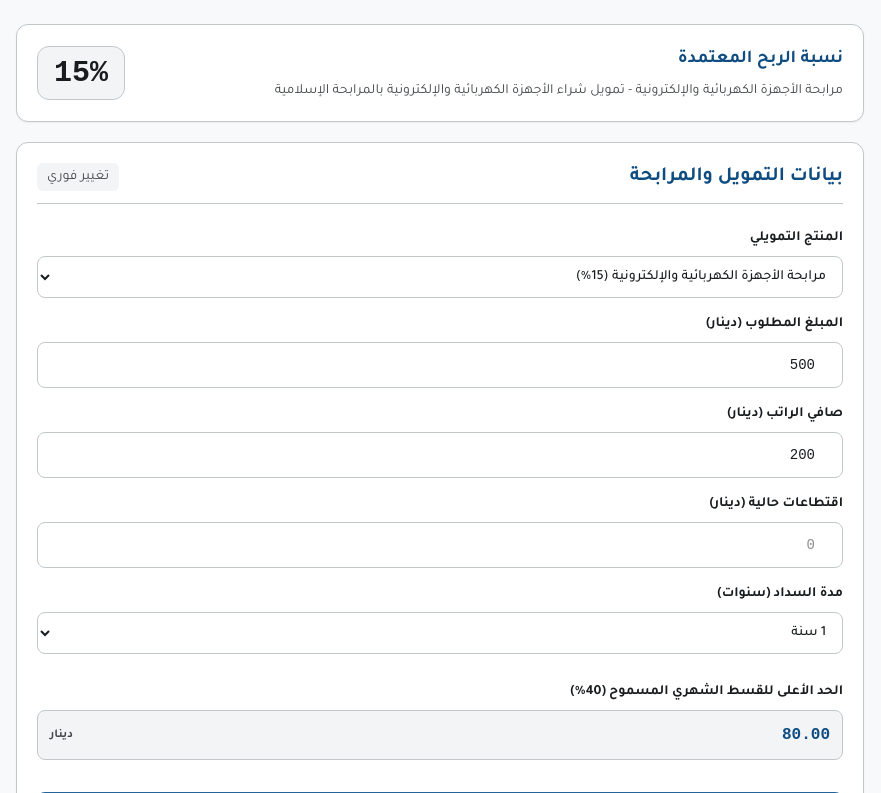
Test case: LoanCalculator › warns when the requested amount exceeds the DTI cap
The image size is (881, 793).
Type "100000" into the number field labelled "المبلغ المطلوب (دينار)". click: (440, 365)
box: 37,342 -> 843,388
(page scrolled)
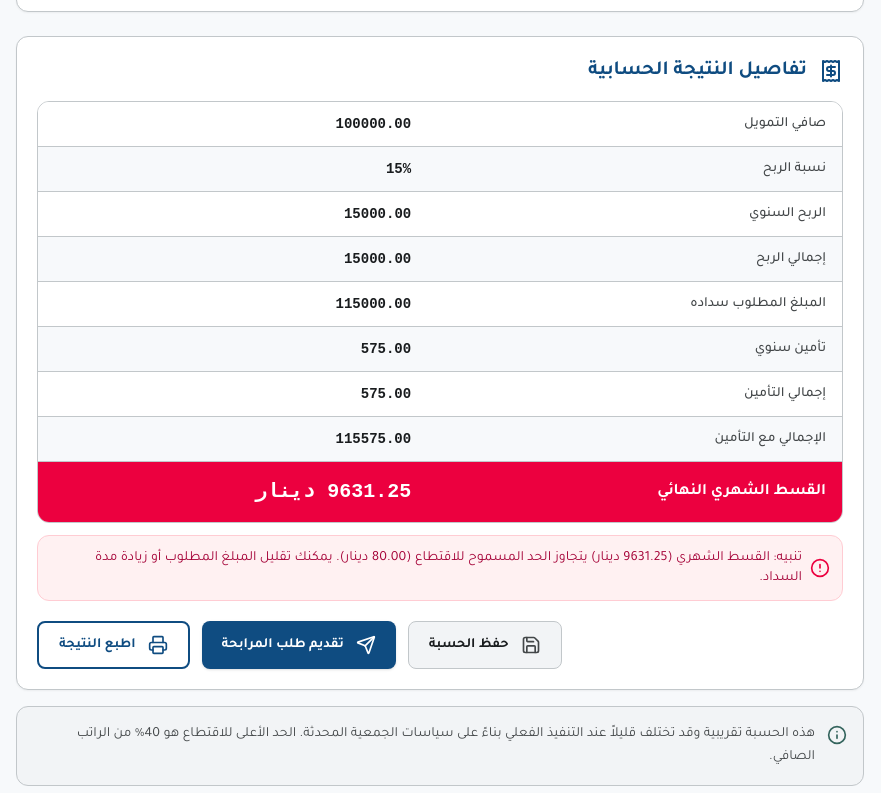
Expected: the text "تنبيه: القسط الشهري" is shown, 668,551 -> 802,565
